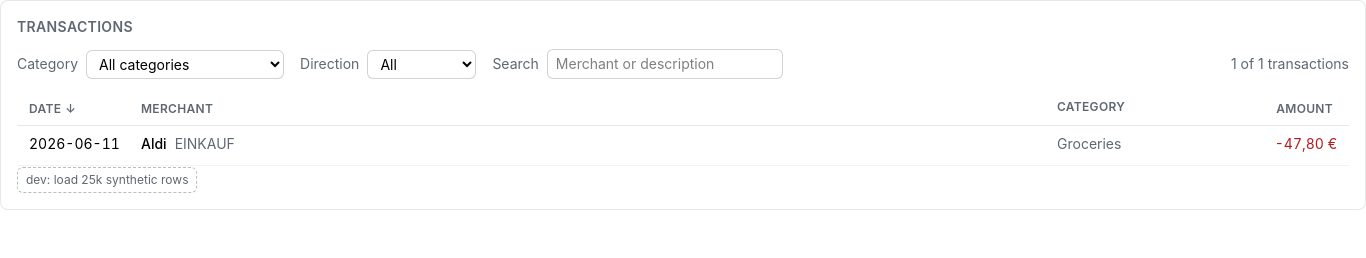
Test: TransactionsPanel › shows the empty-filter state with a working clear button
The width and height of the screenshot is (1366, 258).
Expected: the table named "Transactions" is shown, top-left (17, 91), bottom-right (1349, 166)
Select "Money in" in the dropdown labelled "Direction" at (422, 64), box top-left (367, 50), bottom-right (476, 78)
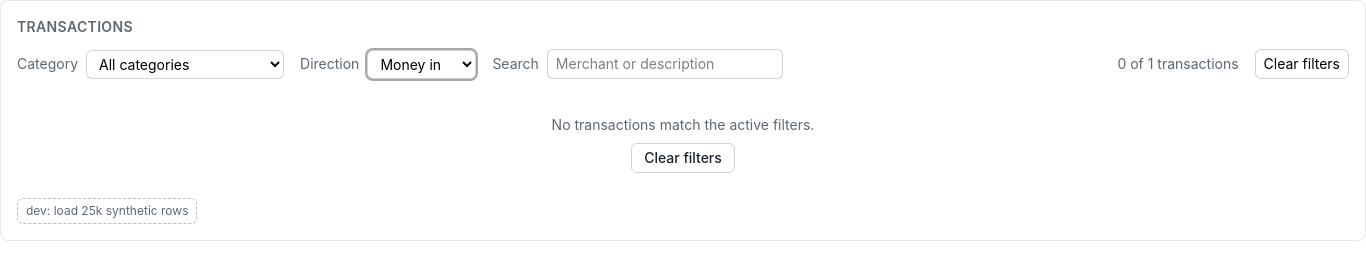
Click the 2nd button "Clear filters" at (683, 158), box top-left (631, 143), bottom-right (735, 173)
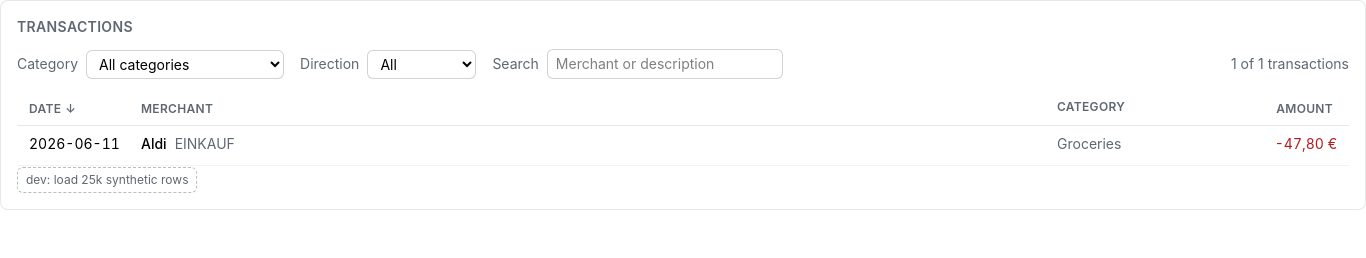
Result: the table named "Transactions" is shown at top-left (17, 91), bottom-right (1349, 166)
